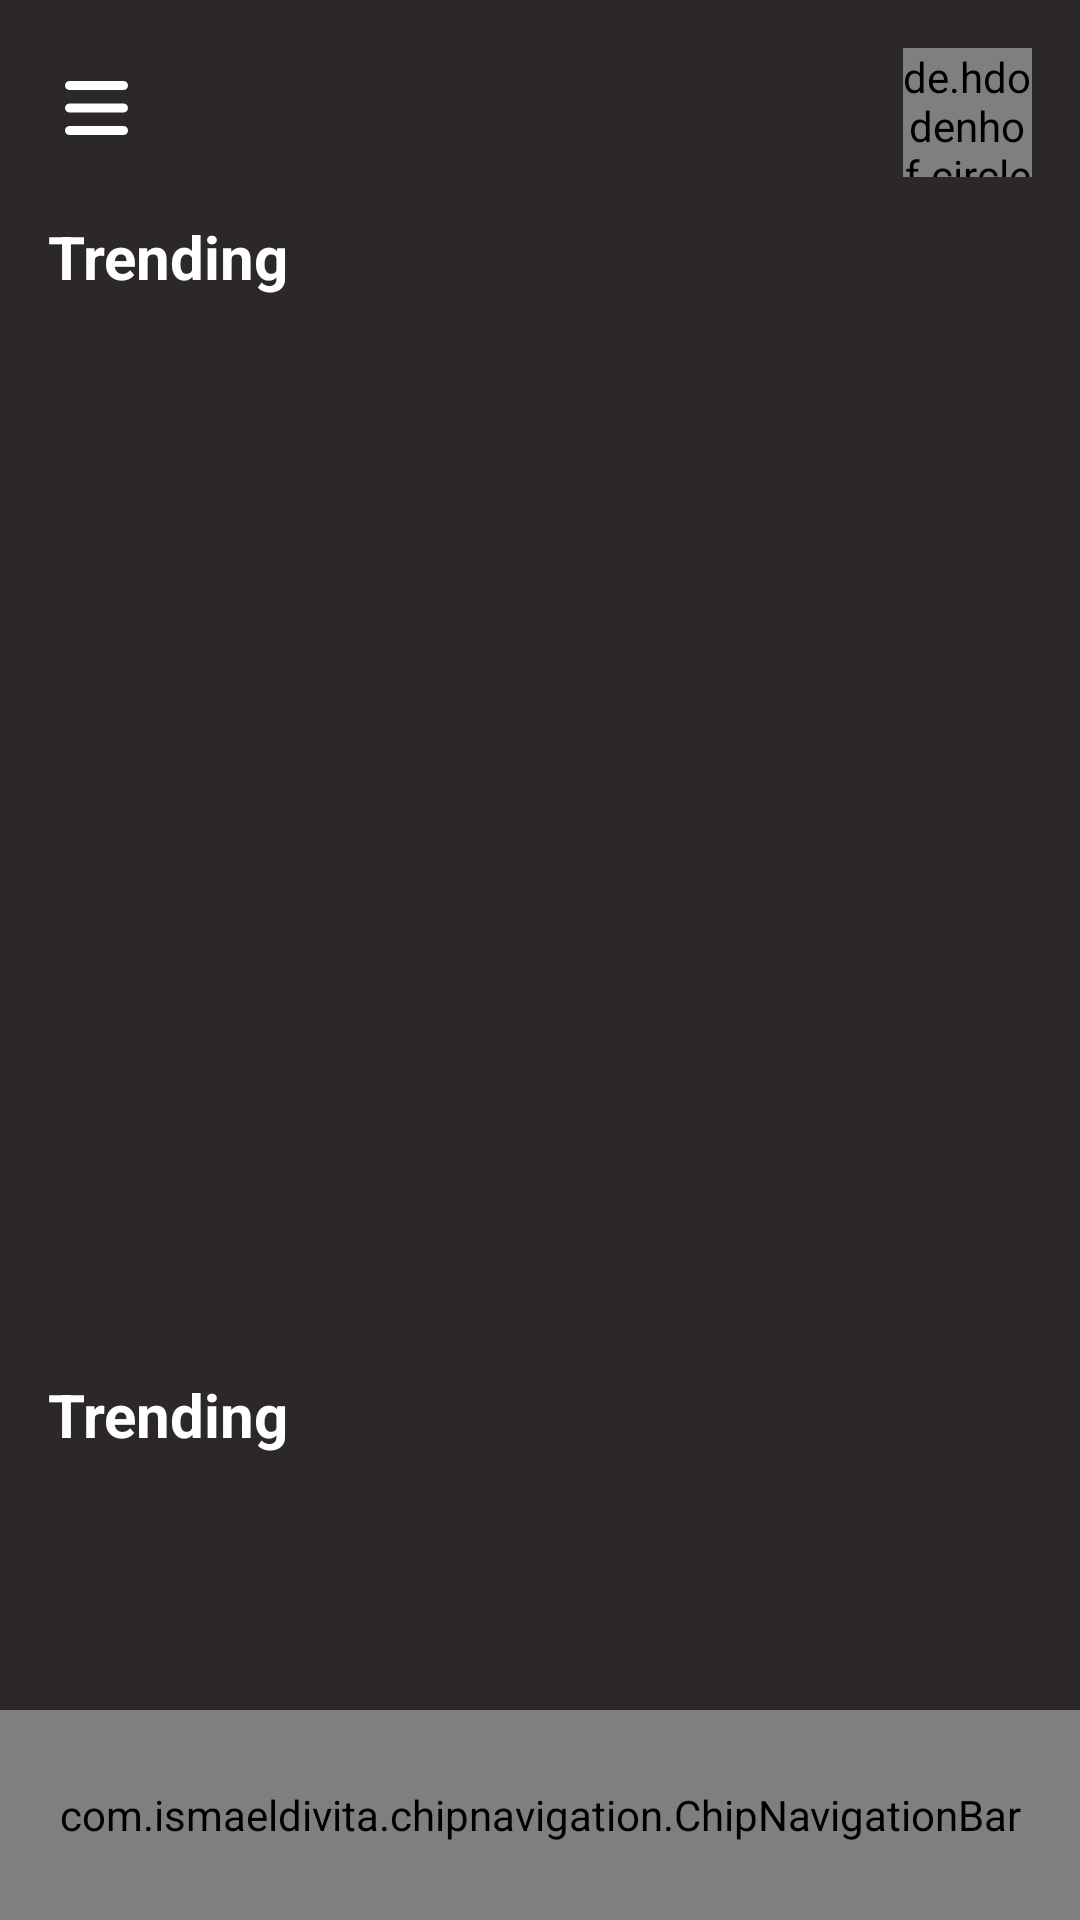

Locate icon controls on the screen. Image size 1080w x 1920h, boxes as (x1, y1, x2, y2).
bars: (65, 81, 128, 135)
